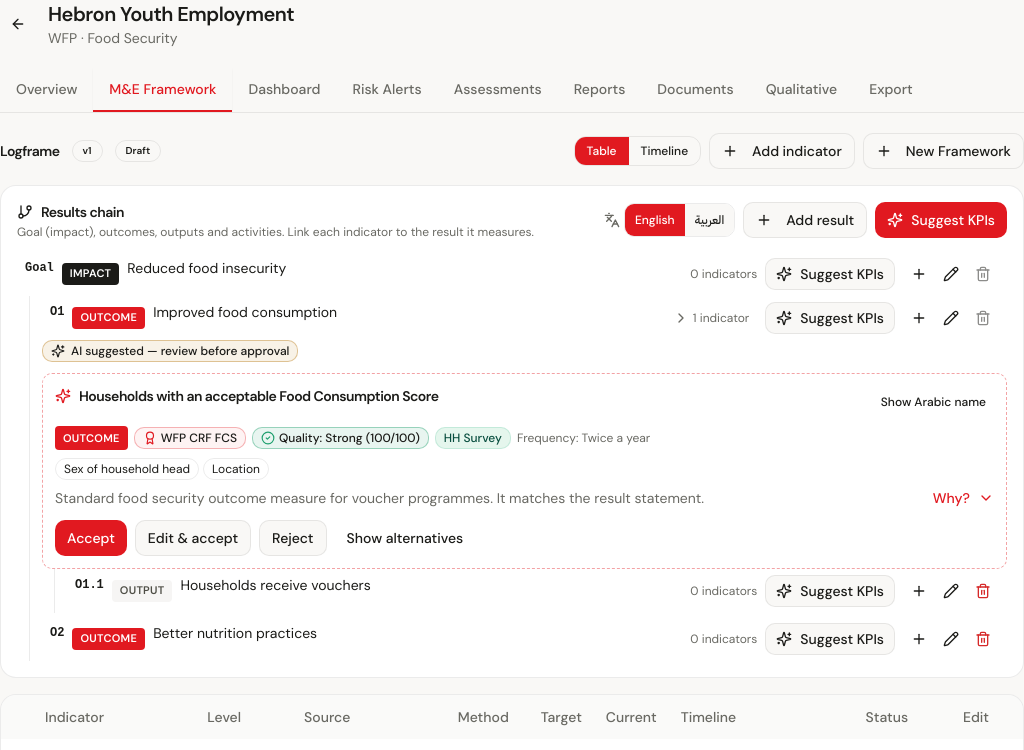
it: Project page: the KPI Assistant on an archived project › an accept refused with 409 project_archived says why and turns the page read-only, the suggestion still readable
Expected: the heading "Hebron Youth Employment" is shown, [48, 0, 294, 28]
Click the button "Accept" at coordinates (91, 538), box [55, 520, 127, 556]
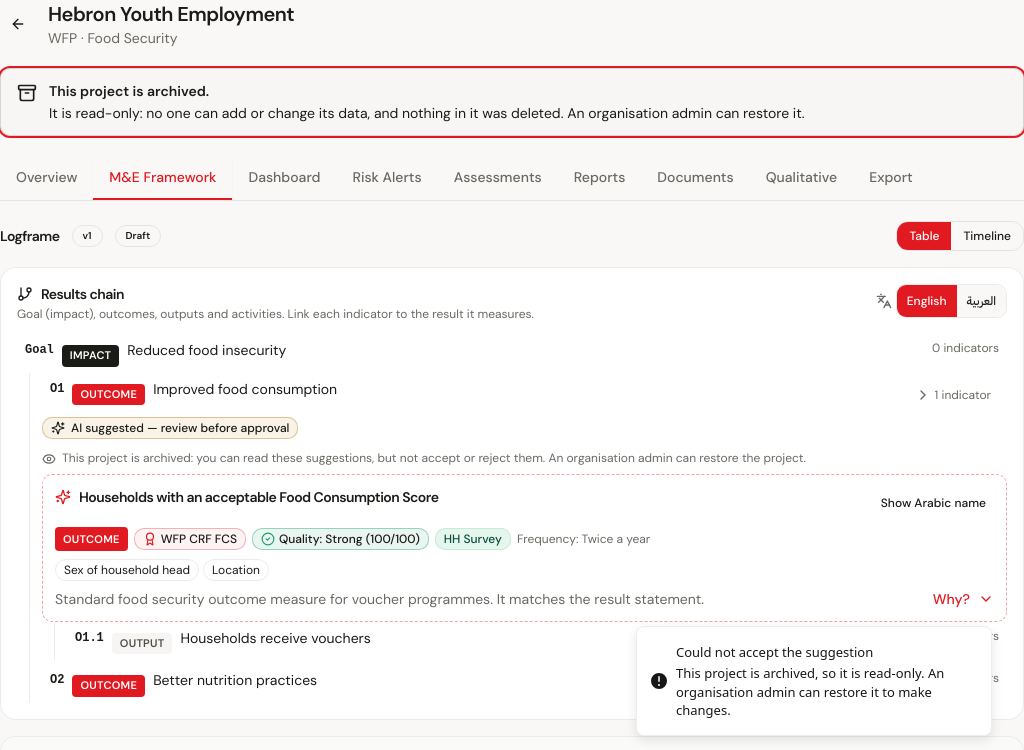
Expected: the element "Households with an acceptable Food Consumption Score" is shown, [42, 474, 1007, 622]
Now the text "This project is archived, so it is read-only. An organisation admin can restore it to make changes." is shown, box [676, 664, 944, 719]
